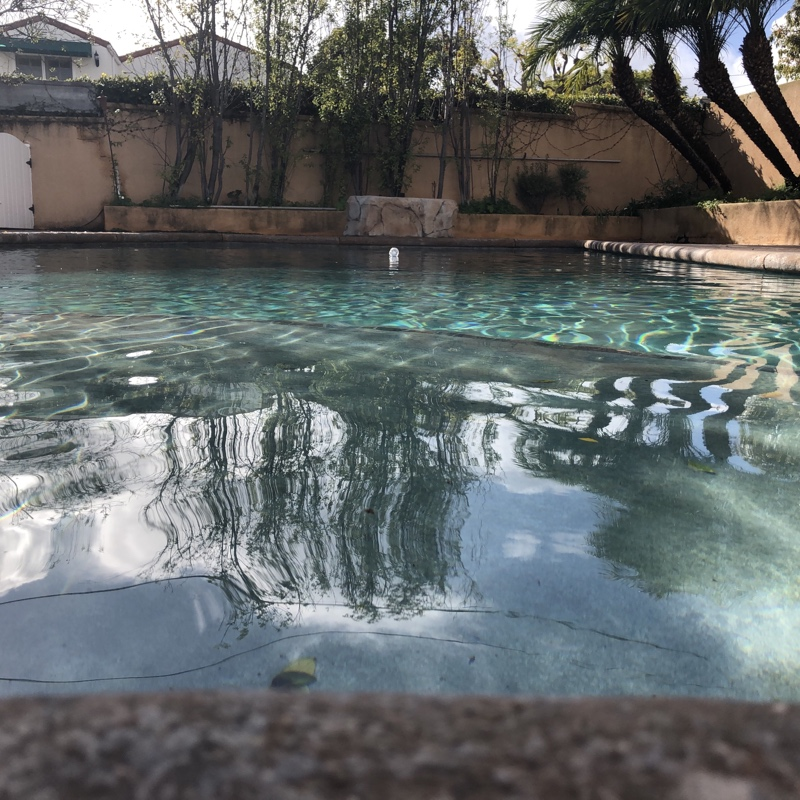Plastic Bottle: (386, 245, 400, 262)
